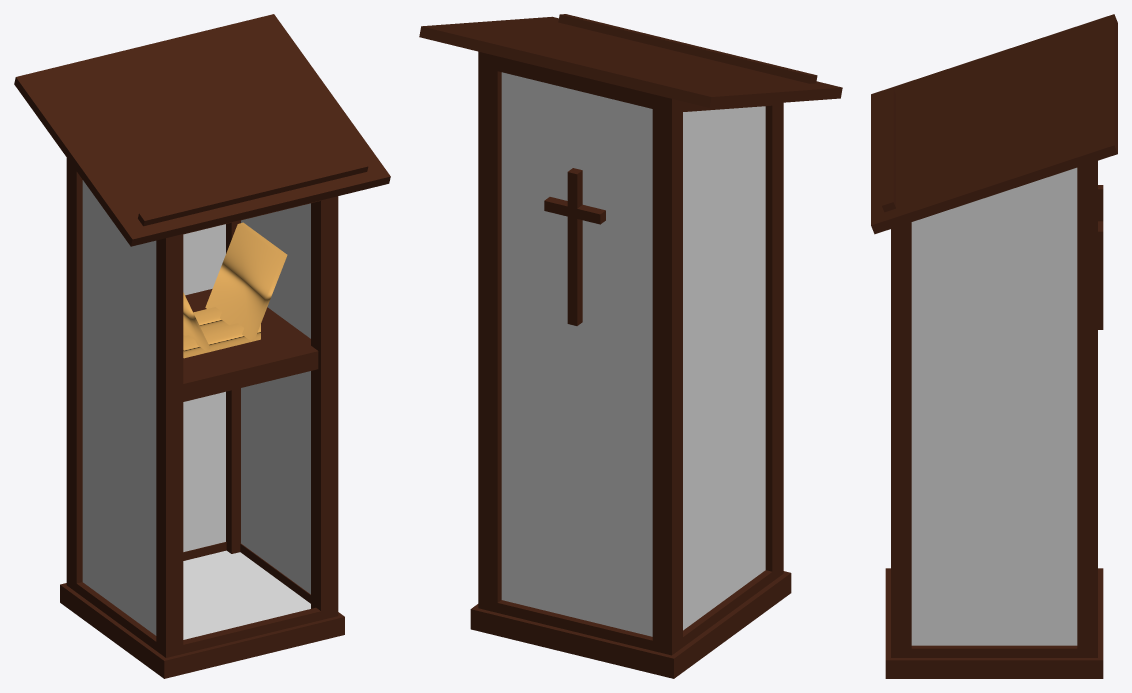
Rendered from simplepulpitJoined.fbx.
The picture shows the model from 3 angles, left to right: view 1: azimuth 30°, elevation 25°; view 2: azimuth 150°, elevation 25°; view 3: azimuth 270°, elevation 25°; orthographic projection. The views are drawn at different scales.
Parts seen in each view (by area): view 1: Cube.002; view 2: Cube.002; view 3: Cube.002.
Part boxes in pixels (x1,y1,x2,y2): Cube.002: (14, 14, 390, 678); Cube.002: (419, 14, 842, 678); Cube.002: (871, 14, 1117, 678).
Bounding box in the file's own units: 73.5 × 144 × 58.39.
